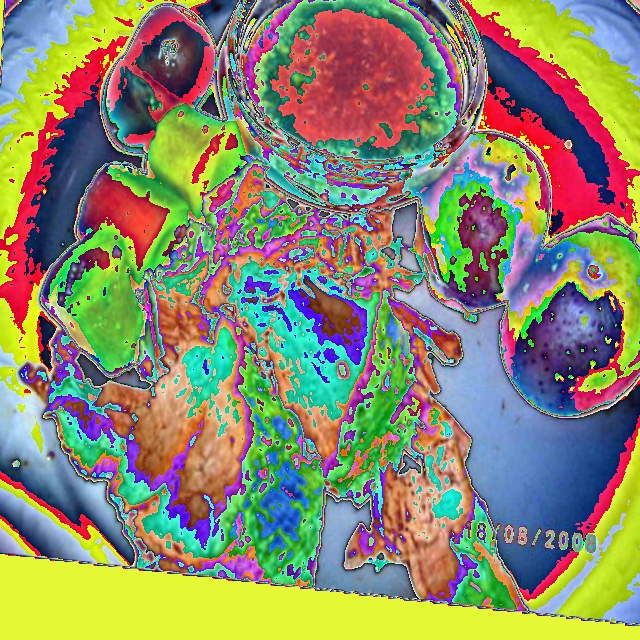background: (19, 0, 639, 614)
